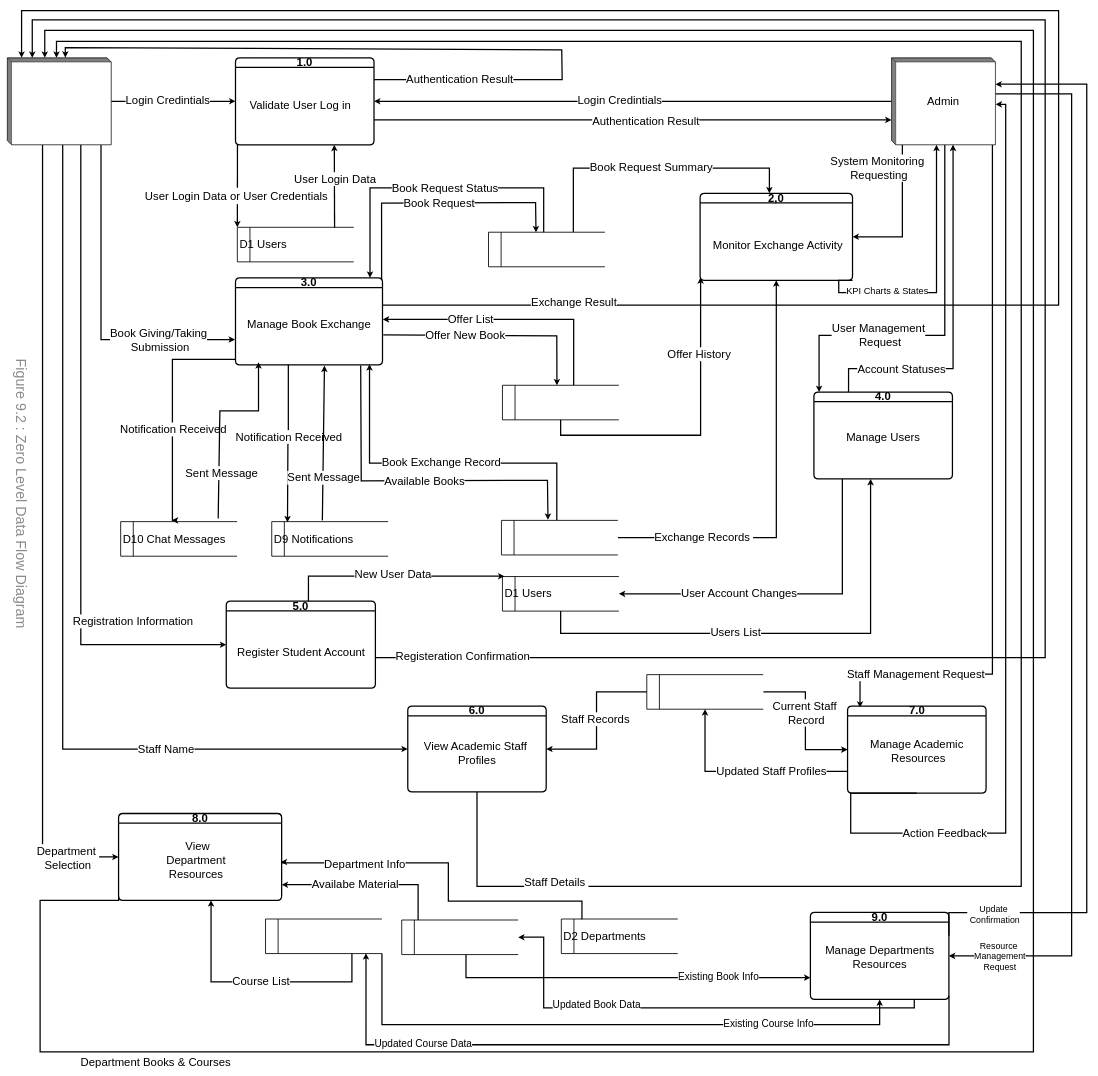
Image size: 1098x1076. Some labels were removed from this diagram. Each missing label, with the box of its shape:
D3 Academic Staff: (646, 674, 763, 709)
D4 Courses: (265, 918, 382, 954)
D5 Books: (401, 919, 518, 955)
D6 Book Exchange: (501, 520, 618, 555)
D7 Book Offers: (502, 385, 619, 420)
D8 Book Requests: (488, 232, 605, 267)
Student: (7, 57, 111, 145)
